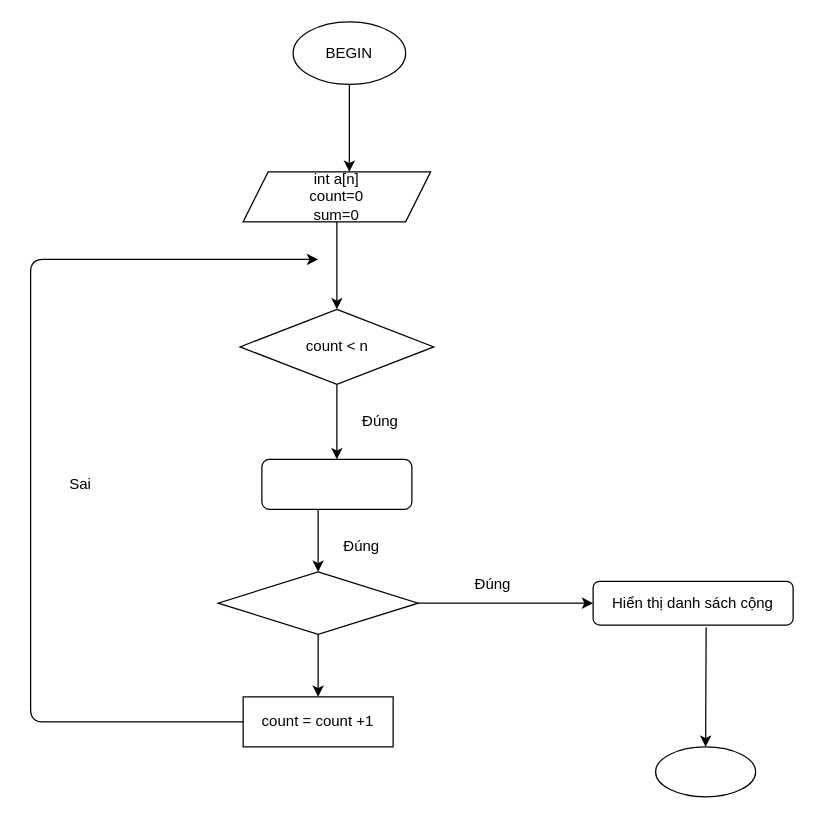
Image size: 815x819. Some labels were removed from this diagram. Here are the shapes that lost their labels. From the top down, the centre of each, then its label:
At point (336, 483): "sum = sum + count".
At point (317, 602): "sum >=10".
At point (705, 771): "end".
